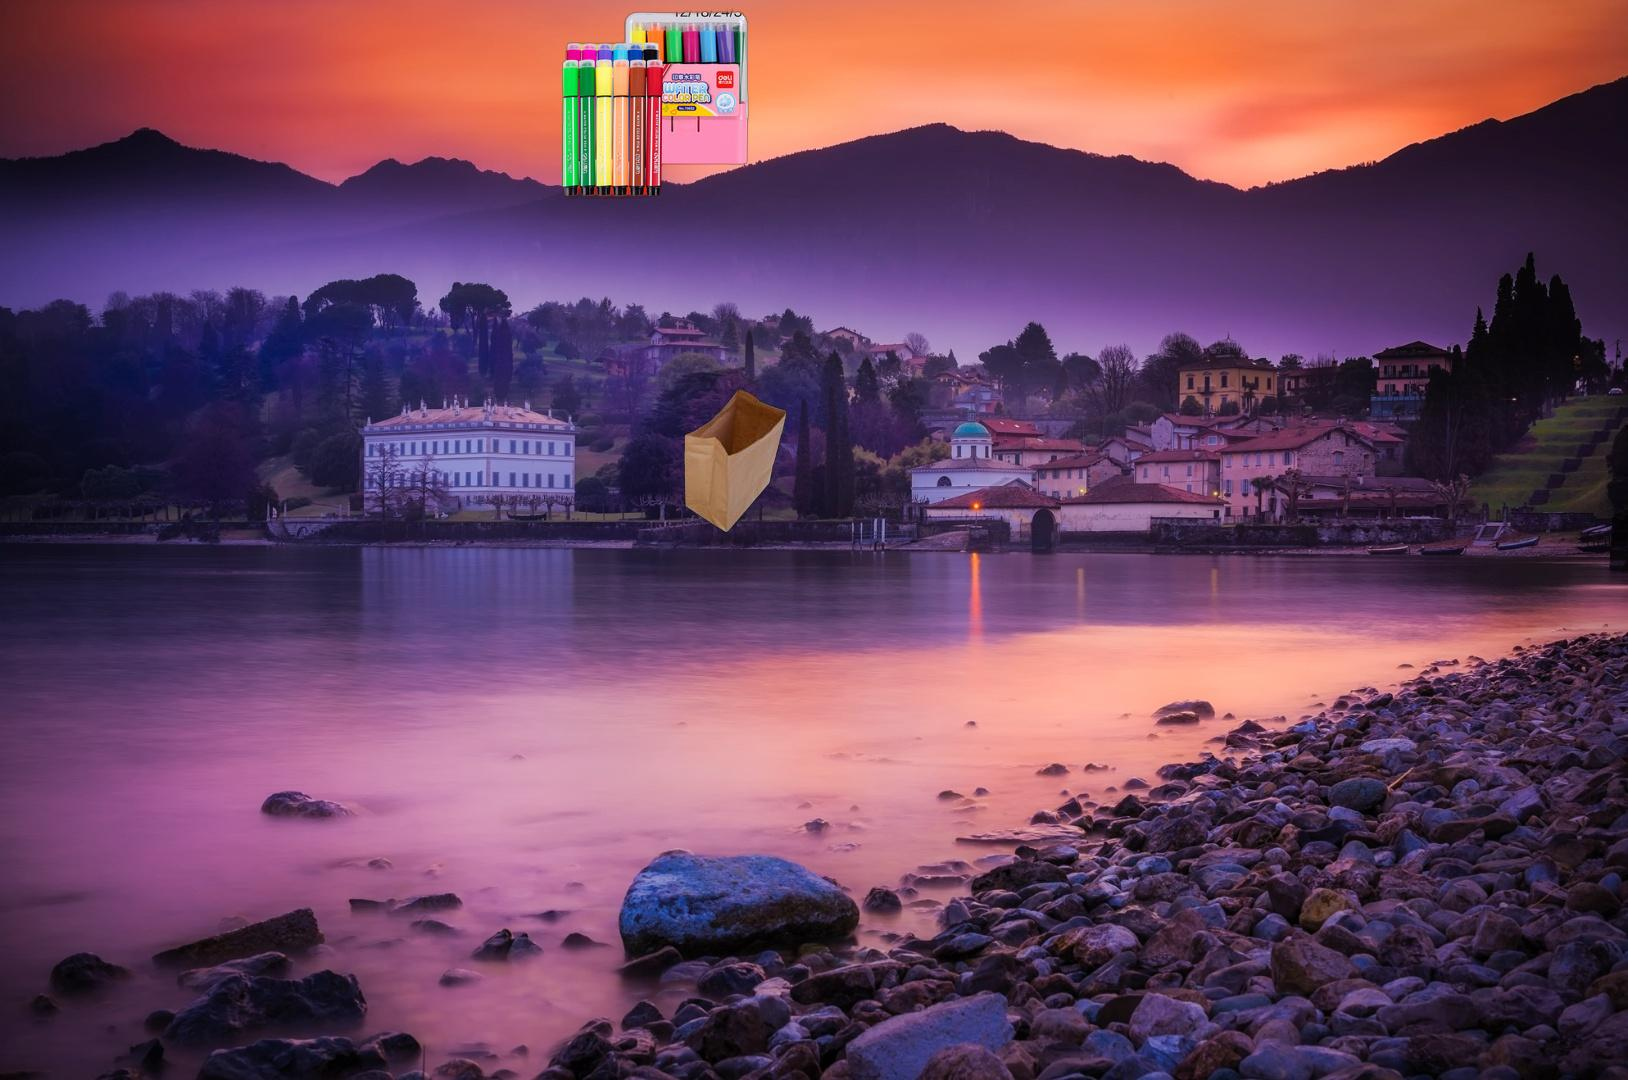paper-bag: (681, 387, 789, 535)
penholder: (559, 5, 751, 199)
